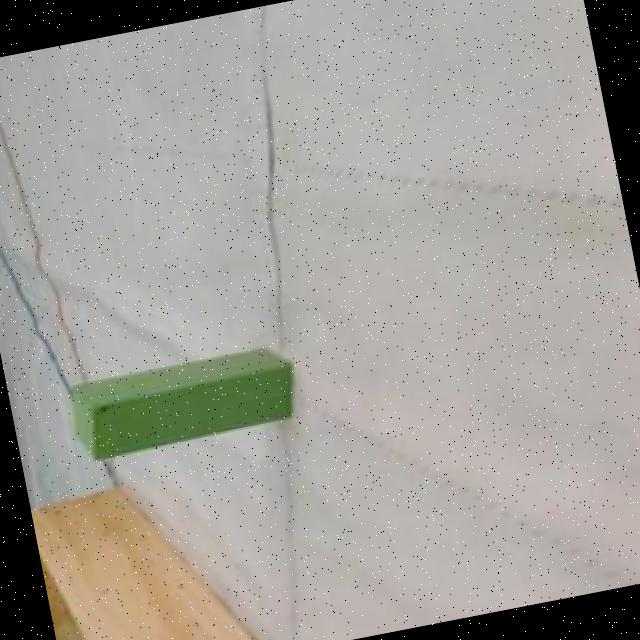greenbox: (67, 342, 302, 464)
